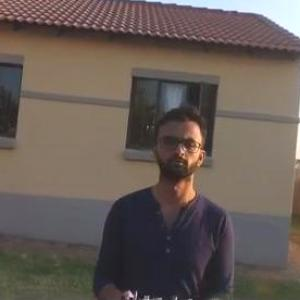follow: (84, 100, 235, 299)
